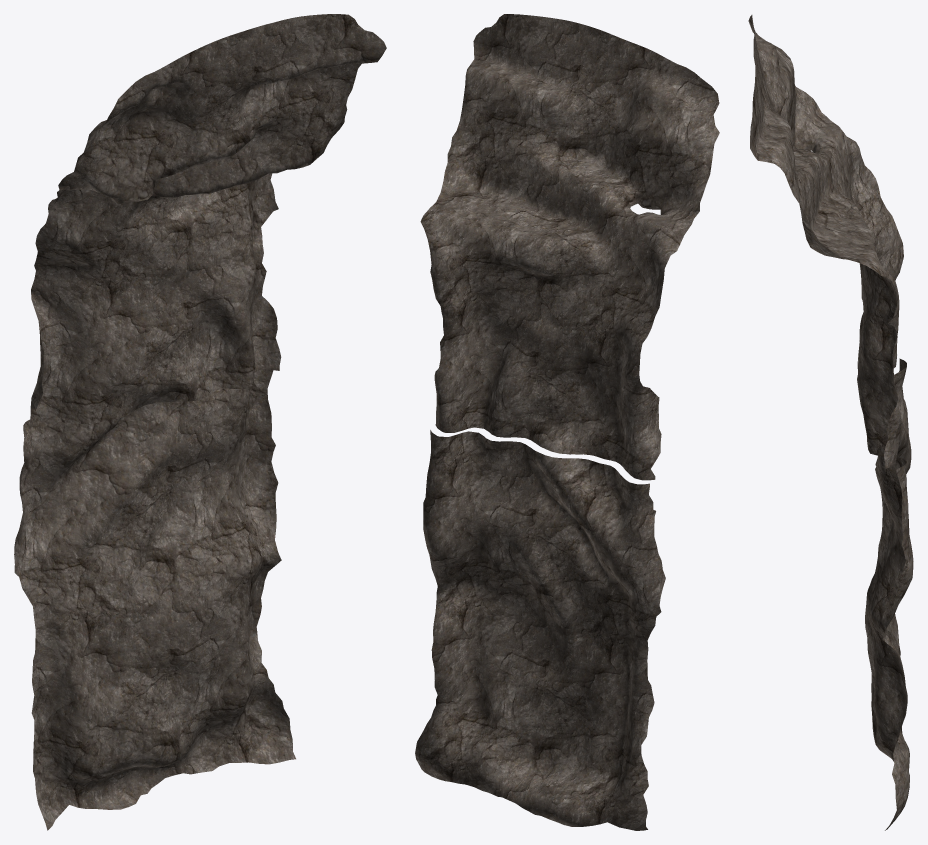
Rendered from wall.dae.
The picture shows the model from 3 angles, left to right: view 1: azimuth 30°, elevation 25°; view 2: azimuth 150°, elevation 25°; view 3: azimuth 270°, elevation 25°; orthographic projection. The views are drawn at different scales.
Parts seen in each view (by area): view 1: wall2, wall1; view 2: wall1, wall2; view 3: wall1, wall2.
Boxes of the visible parts, x1,y1,x2,y2 form: wall2: (14,370,295,830); wall1: (29,14,386,428); wall1: (420,14,719,480); wall2: (415,430,665,830); wall1: (748,15,903,468); wall2: (865,358,913,830).
Bounding box in the file's own units: 52.31 × 28.09 × 141.
